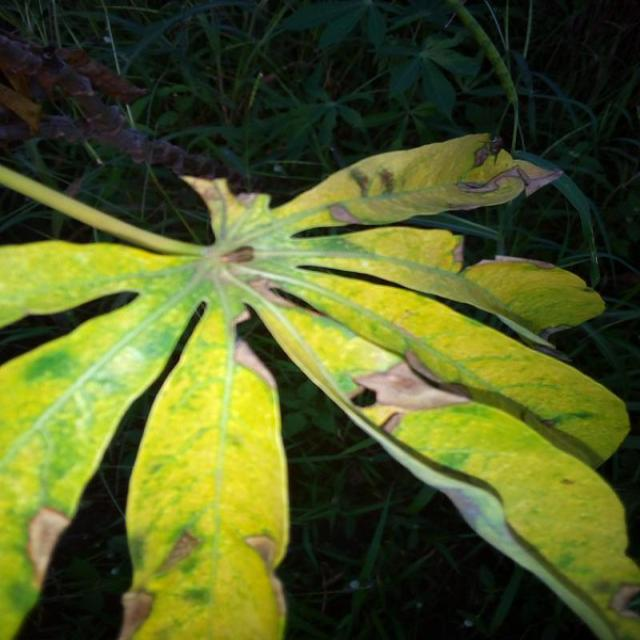cassava leaf: (0, 129, 638, 639)
